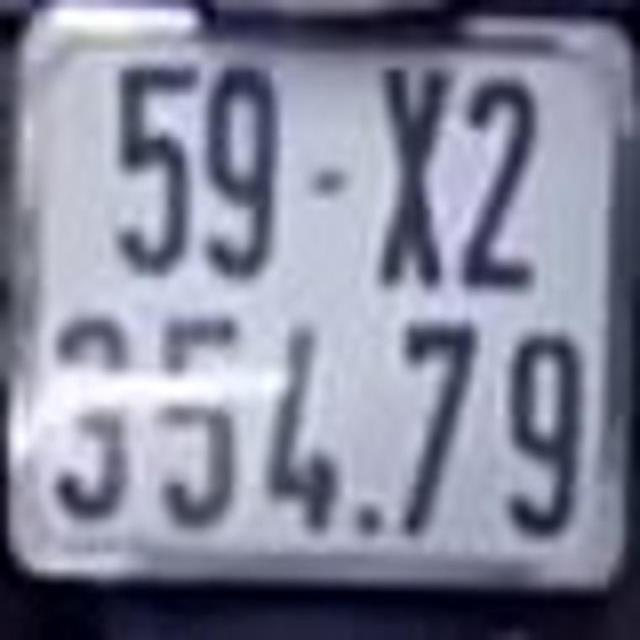2: (461, 71, 540, 294)
3: (47, 309, 133, 523)
4: (266, 318, 340, 536)
5: (157, 310, 240, 530), (113, 58, 196, 278)
7: (397, 316, 480, 538)
9: (203, 61, 279, 283), (505, 326, 582, 538)
X: (374, 62, 448, 288)
